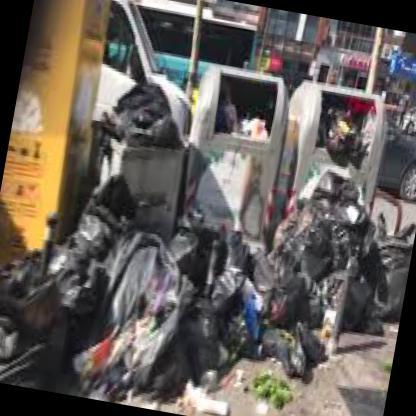Garbage: (59, 209, 236, 404), (278, 171, 375, 377), (62, 186, 146, 394), (153, 233, 252, 409), (235, 242, 344, 376), (0, 262, 91, 393), (350, 224, 414, 346), (99, 74, 197, 146), (216, 80, 276, 138), (316, 102, 374, 158)
